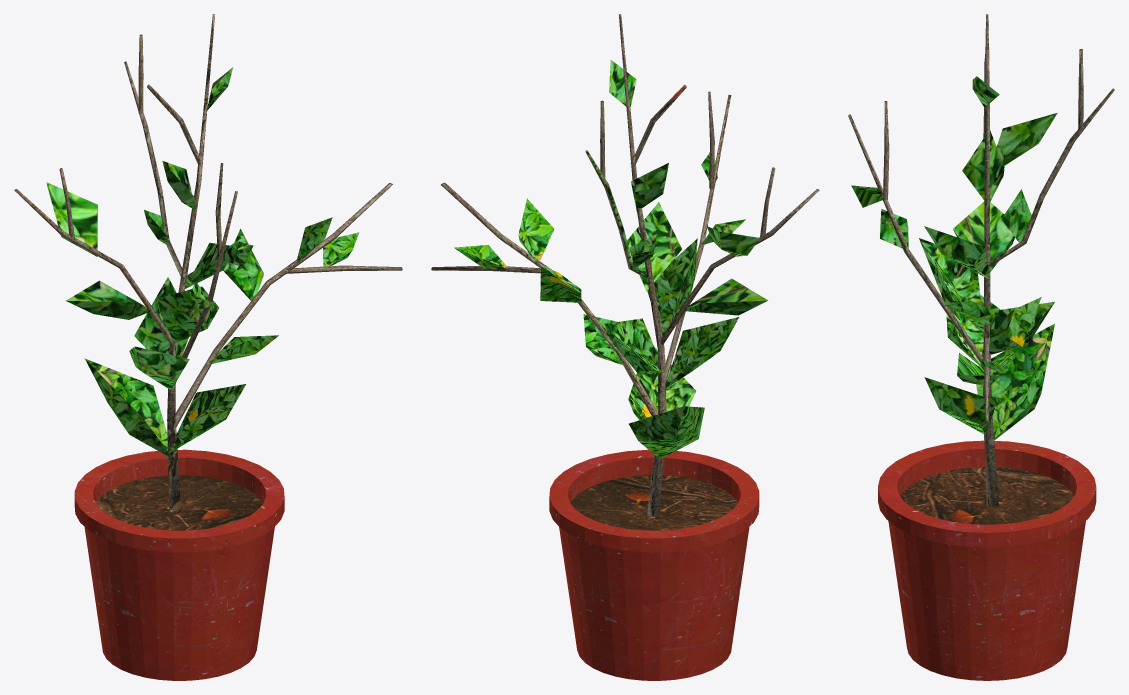
Rendered from DecoPlant1.fbx.
3 renders of one model, left to right at view 1: azimuth 30°, elevation 25°; view 2: azimuth 150°, elevation 25°; view 3: azimuth 270°, elevation 25°, orthographic. The views are drawn at different scales.
Parts seen in each view (by area): view 1: BezierCurve; view 2: BezierCurve; view 3: BezierCurve.
Part boxes in pixels (x1,y1,x2,y2): BezierCurve: [14, 14, 402, 680]; BezierCurve: [431, 14, 819, 680]; BezierCurve: [848, 14, 1114, 680].
Size of the model in its own units: 0.7789 by 0.4471 by 1.2.
